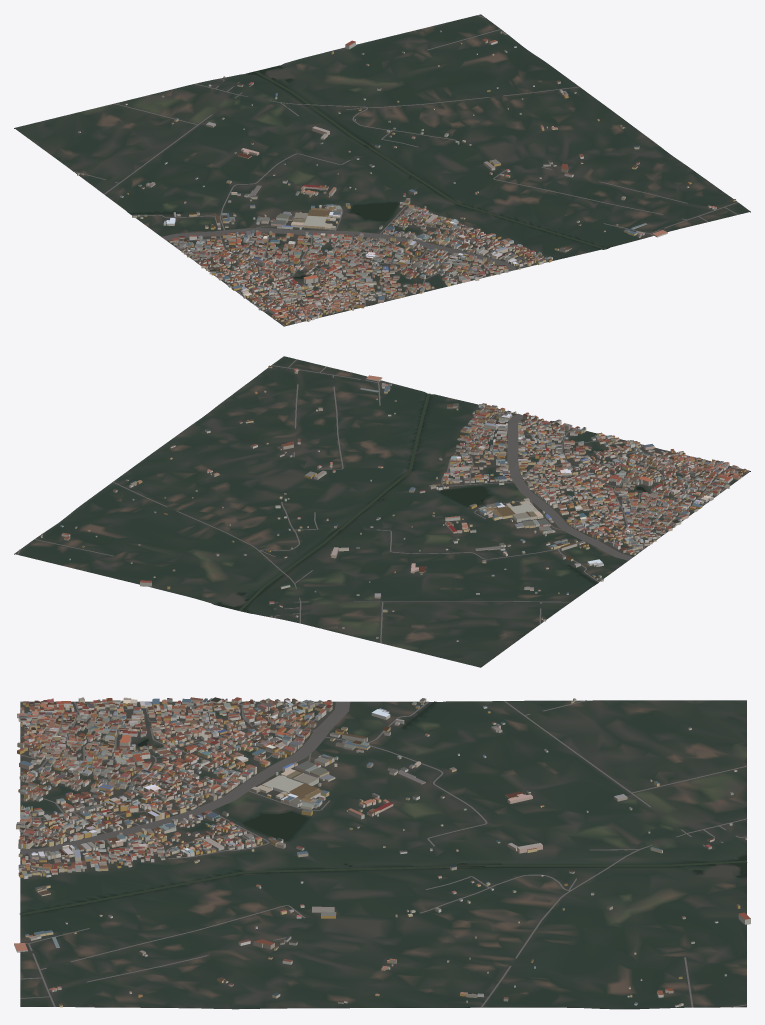
3 views of the same model, one above another, from view 1: azimuth 30°, elevation 25°; view 2: azimuth 150°, elevation 25°; view 3: azimuth 270°, elevation 25° (orthographic). The views are drawn at different scales.
Parts seen in each view (by area): view 1: ground, buildings, roads, water; view 2: ground, buildings, roads, water; view 3: ground, buildings, roads, water.
Boxes of the visible parts, left/top/right/bottom form: ground: left=14, top=14, right=750, bottom=326; buildings: left=77, top=30, right=736, bottom=324; roads: left=73, top=15, right=737, bottom=326; water: left=129, top=66, right=606, bottom=305; ground: left=14, top=356, right=750, bottom=667; buildings: left=40, top=365, right=746, bottom=641; roads: left=17, top=359, right=749, bottom=643; water: left=217, top=393, right=663, bottom=612; ground: left=20, top=700, right=746, bottom=1009; buildings: left=14, top=697, right=750, bottom=1007; roads: left=19, top=700, right=747, bottom=1007; water: left=19, top=701, right=747, bottom=915.
Size of the model in its own units: 1409 by 20.82 by 1422.
